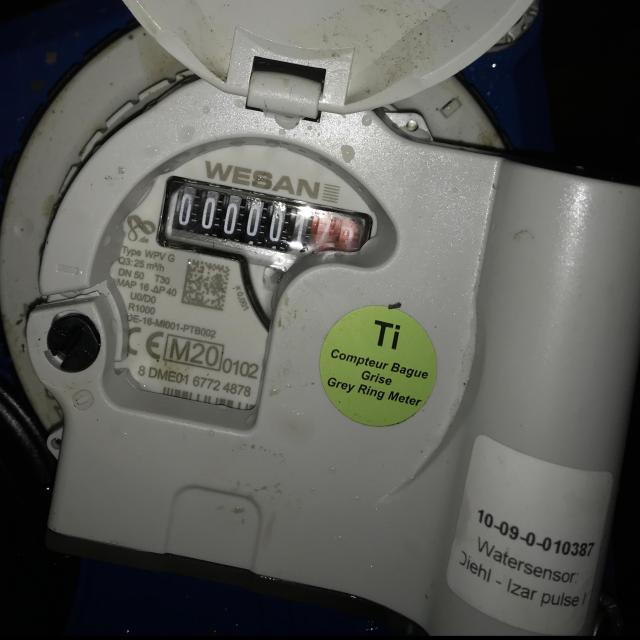gaz_meter: (40, 57, 477, 443)
indication: (164, 180, 370, 269)
